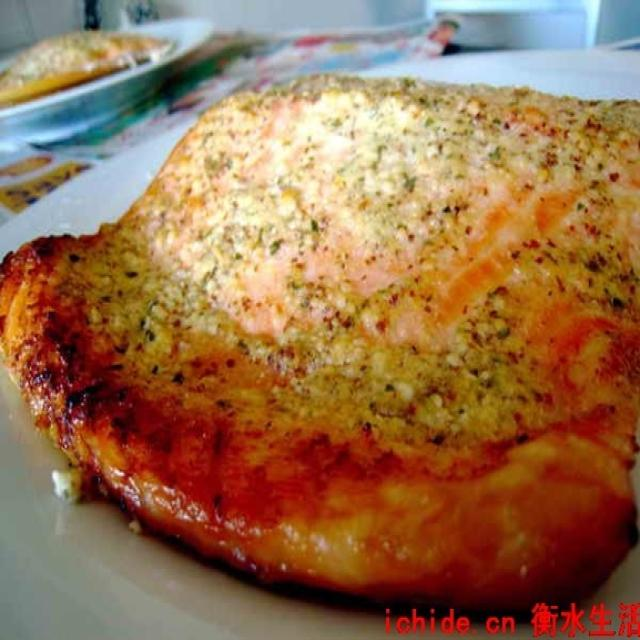熟制海鲜: (15, 34, 619, 591)
